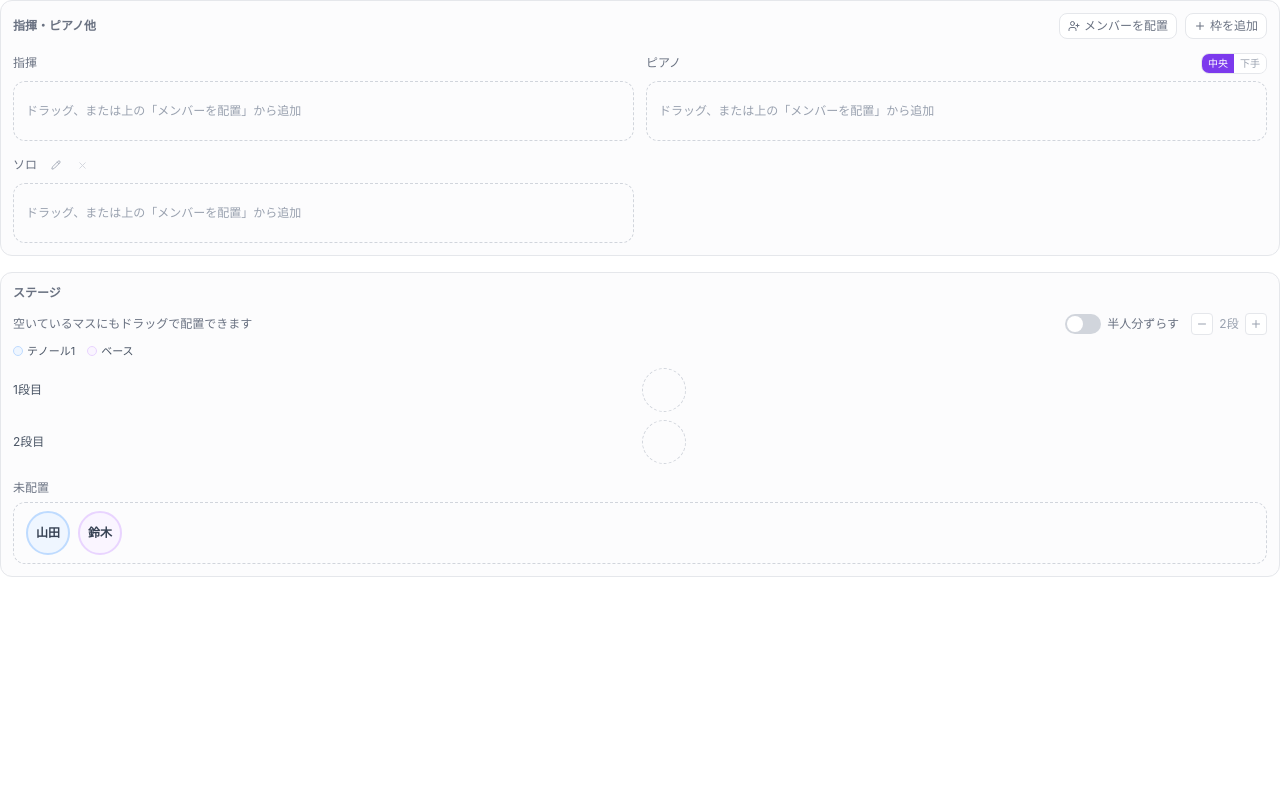
Scenario: FormationEditor（枠の追加・編集・削除） › カスタム枠の鉛筆で枠名を編集し、Enter で保存して鉛筆にフォーカスを戻す
Click the button named "ソロの枠名を編集".
click(56, 165)  # box top-left (49, 158), bottom-right (63, 172)
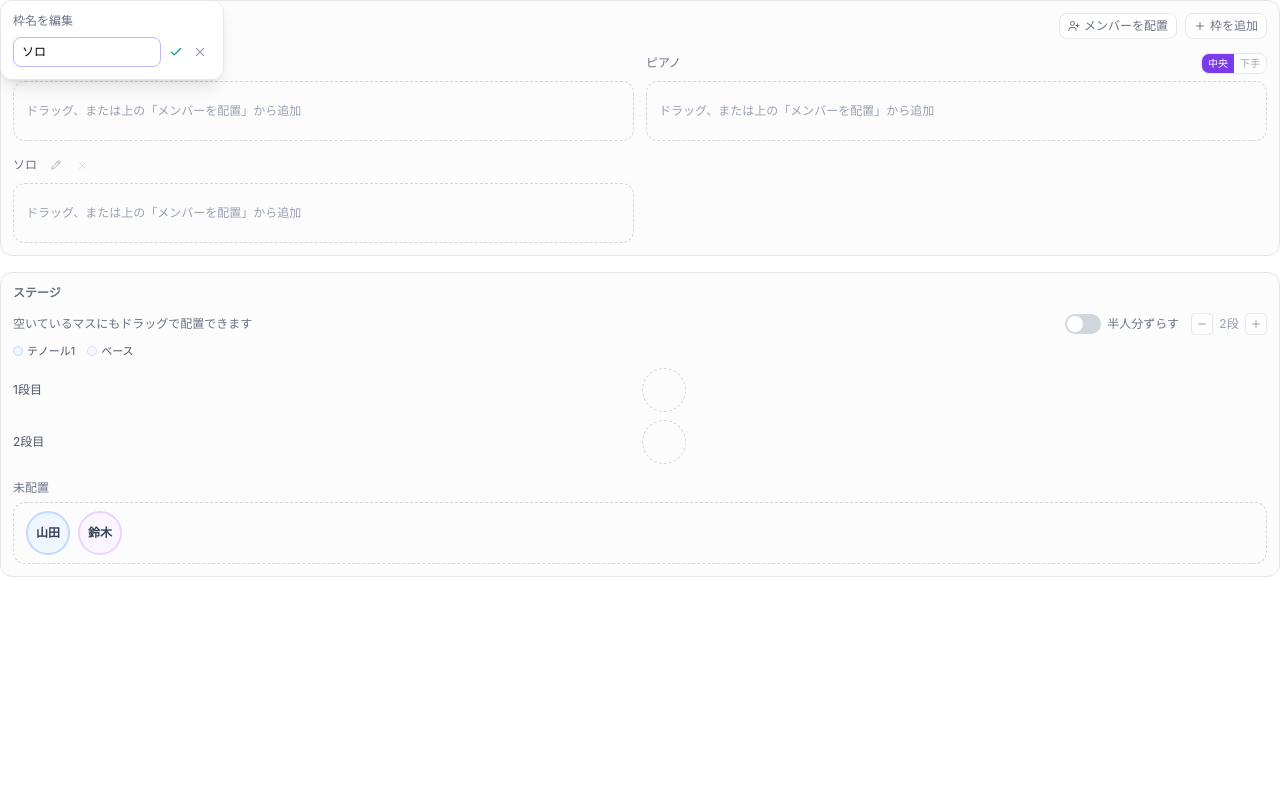
Replace the text in the field named "枠名" with "独唱" at [87, 52], box top-left (13, 37), bottom-right (161, 67)
Then press Enter
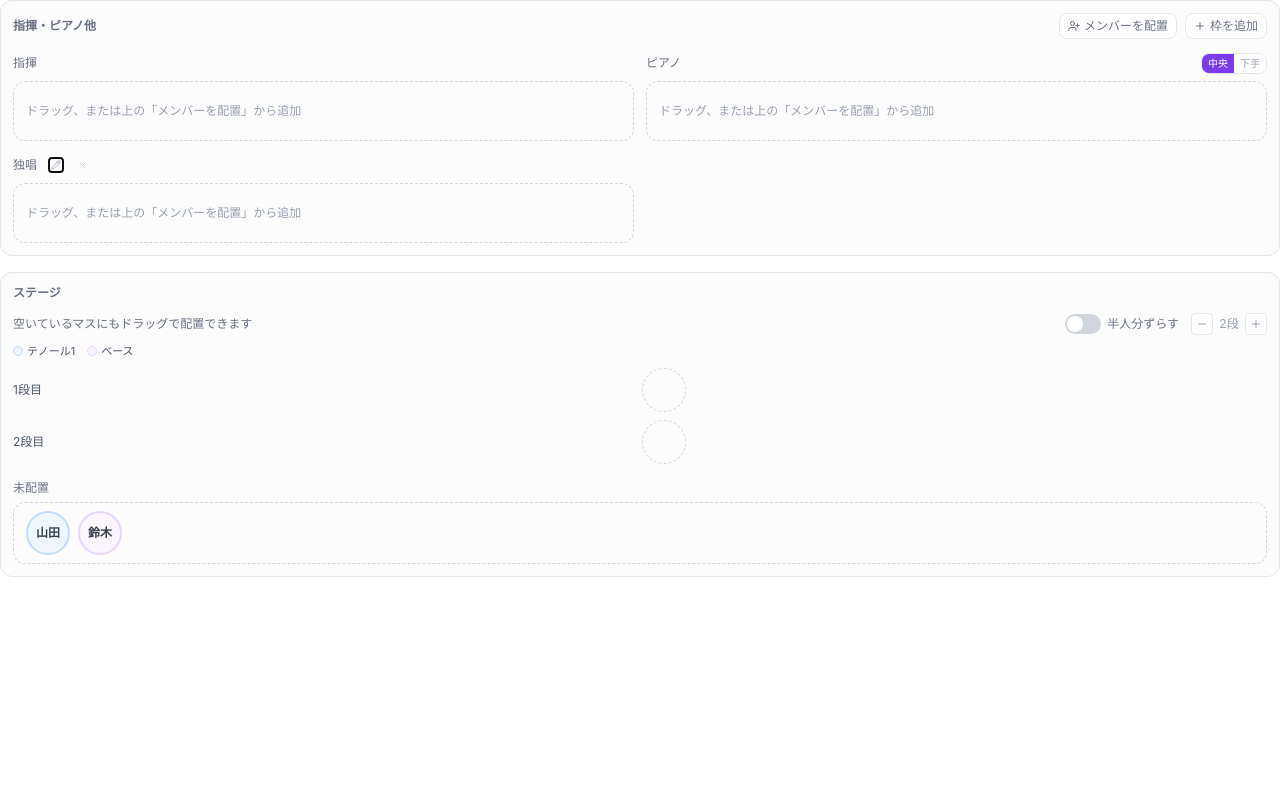
Result: the text "独唱" is shown at top-left (13, 157), bottom-right (37, 173)
Result: the text "枠名" is gone
